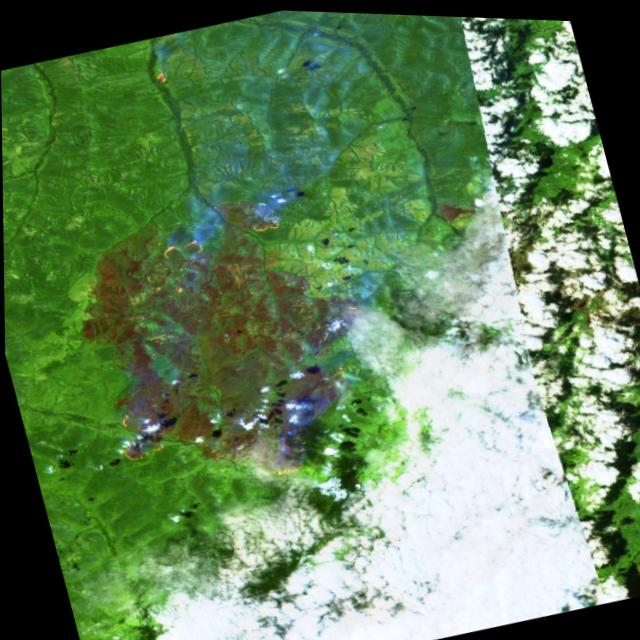fire: (95, 404, 178, 471), (261, 425, 320, 481), (324, 284, 382, 335), (152, 226, 214, 271), (232, 190, 287, 240), (184, 434, 242, 470), (142, 56, 174, 87)
